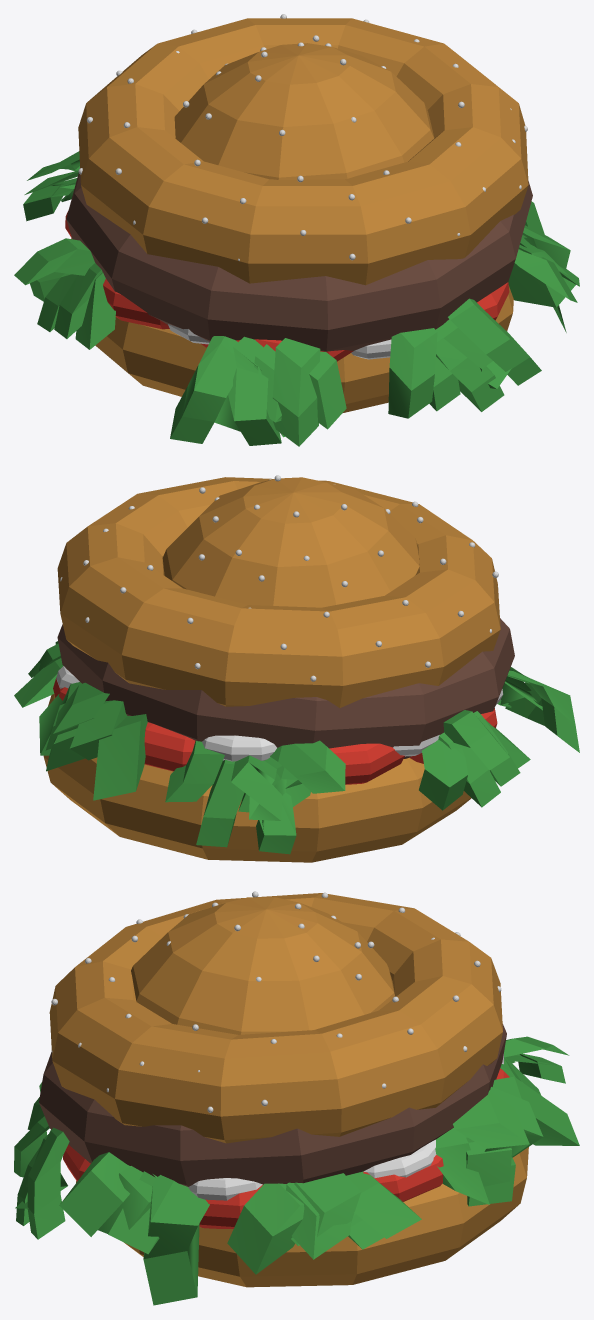
3 views of the same model, one above another, from view 1: azimuth 30°, elevation 25°; view 2: azimuth 150°, elevation 25°; view 3: azimuth 270°, elevation 25° (orthographic). The views are drawn at different scales.
Parts seen in each view (by area): view 1: node_MeshObject811196416-PolyPaper19, node_MeshObject1383275520-PolyPaper21; view 2: node_MeshObject811196416-PolyPaper19, node_MeshObject1383275520-PolyPaper21; view 3: node_MeshObject811196416-PolyPaper19, node_MeshObject1383275520-PolyPaper21.
Part boxes in pixels (<box>): node_MeshObject811196416-PolyPaper19: <box>14,14,579,446</box>; node_MeshObject1383275520-PolyPaper21: <box>78,19,527,260</box>; node_MeshObject811196416-PolyPaper19: <box>14,475,579,862</box>; node_MeshObject1383275520-PolyPaper21: <box>60,479,498,681</box>; node_MeshObject811196416-PolyPaper19: <box>14,891,579,1305</box>; node_MeshObject1383275520-PolyPaper21: <box>51,892,501,1112</box>.
Bounding box in the file's own units: 1.71 × 0.9866 × 1.68.
